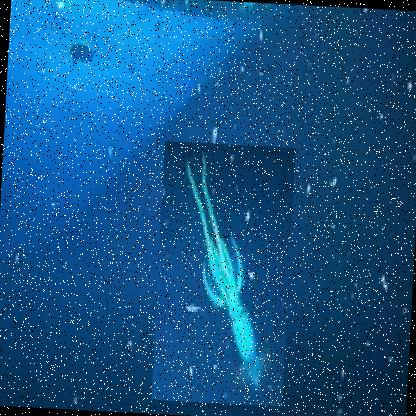colossal_squid: (150, 141, 295, 408)
